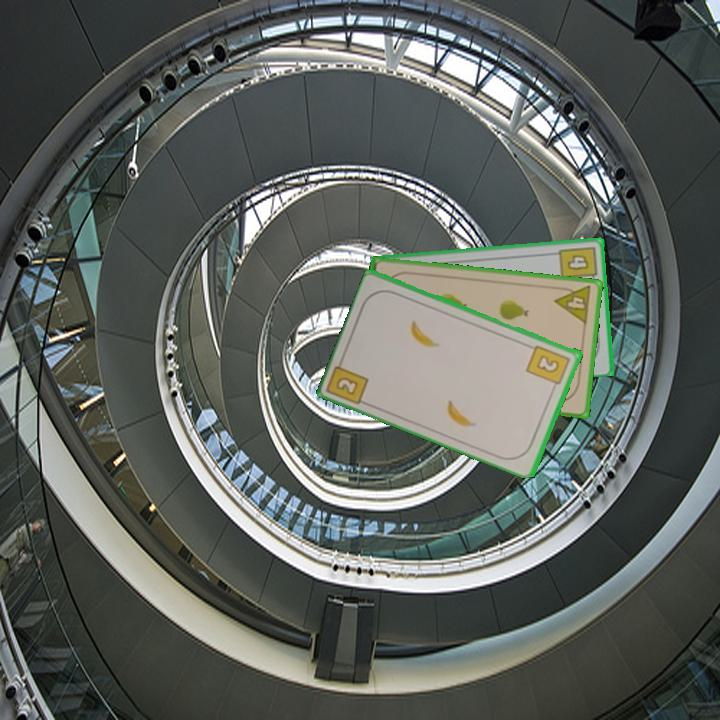2b: (523, 341, 573, 393), (325, 353, 372, 407)
4b: (556, 242, 599, 286)
4p: (551, 282, 594, 327)
